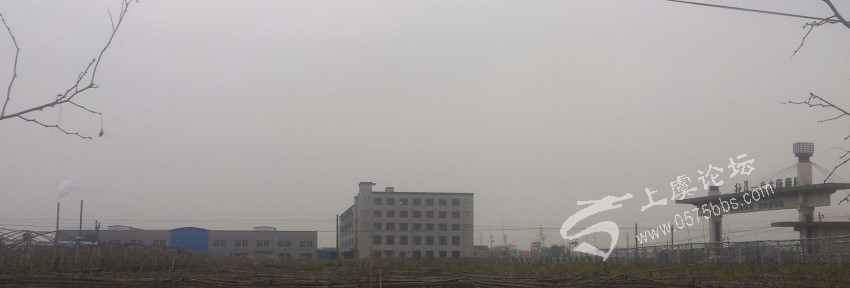dust: (43, 160, 90, 207)
